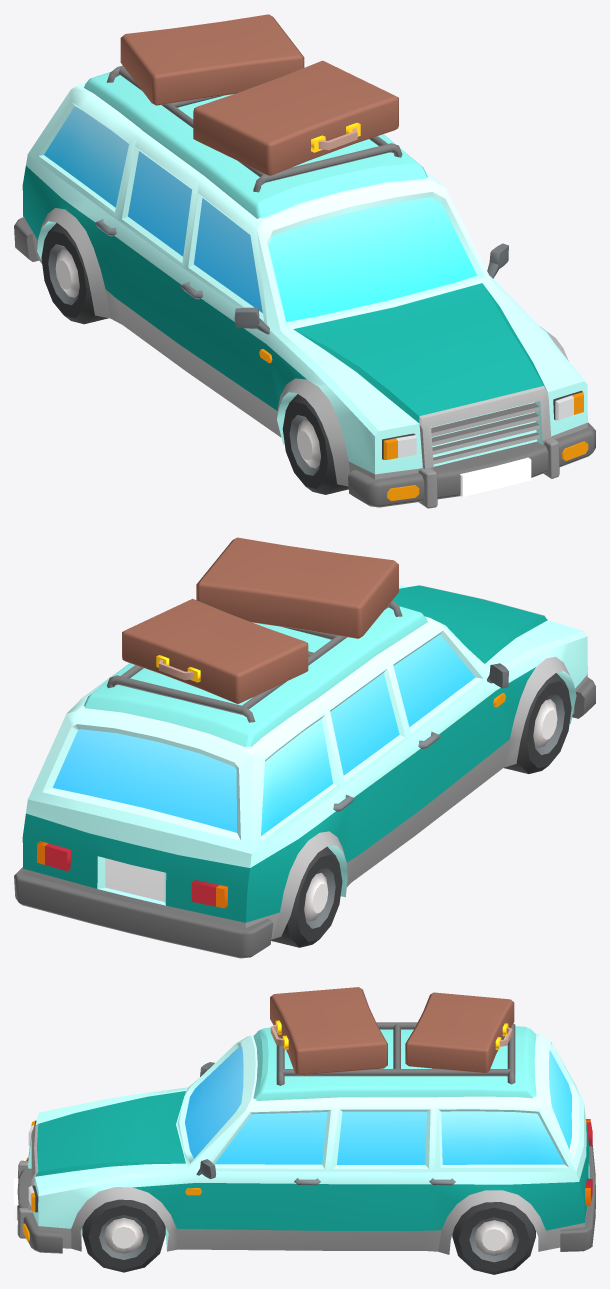
Rendered from Car_01.glb.
3 renders of one model, top to bottom at view 1: azimuth 30°, elevation 25°; view 2: azimuth 150°, elevation 25°; view 3: azimuth 270°, elevation 25°, orthographic. The views are drawn at different scales.
Parts seen in each view (by area): view 1: Car_01, Wheel_021, Wheel_022; view 2: Car_01, Wheel_022, Wheel_021; view 3: Car_01, Wheel_023, Wheel_024.
Boxes of the visible parts, <box> form: Car_01: <box>14,14,595,508</box>; Wheel_021: <box>282,394,348,494</box>; Wheel_022: <box>41,223,108,324</box>; Car_01: <box>14,537,595,958</box>; Wheel_022: <box>271,846,342,947</box>; Wheel_021: <box>504,673,571,773</box>; Car_01: <box>14,987,595,1254</box>; Wheel_023: <box>82,1199,165,1272</box>; Wheel_024: <box>452,1202,535,1274</box>.
Bounding box in the file's own units: 2.53 × 2.36 × 5.91.
2 materials, 2 textured.
